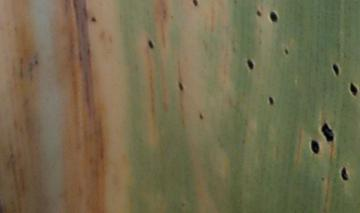tarspot: (319, 122, 335, 143), (347, 81, 360, 96), (331, 61, 341, 77), (268, 9, 279, 23), (311, 139, 320, 154), (340, 166, 348, 181), (246, 58, 254, 70), (267, 95, 275, 107), (177, 80, 184, 92), (148, 40, 155, 50), (283, 47, 290, 56), (256, 8, 262, 18), (198, 112, 205, 120), (192, 1, 199, 8), (319, 176, 326, 183), (91, 17, 97, 23), (33, 59, 39, 65)
